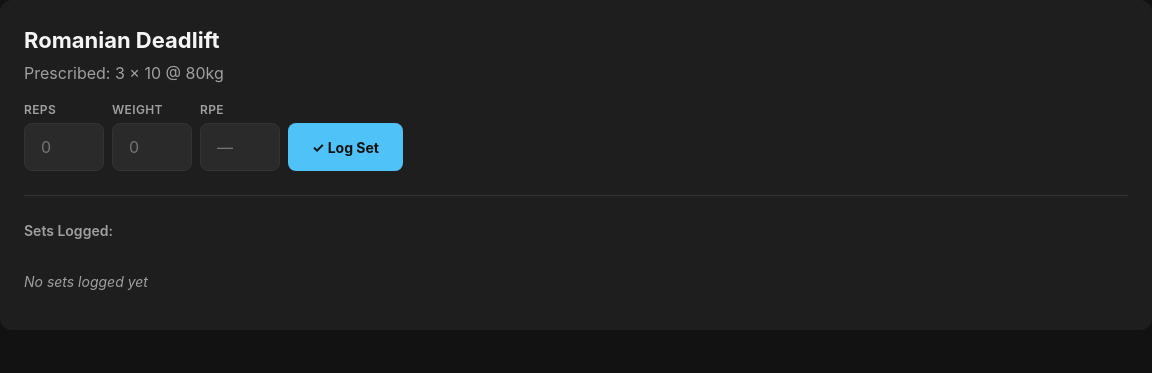
Test case: LoggingPanel › Strength variant › shows validation error when weight is missing
This screenshot has width=1152, height=373.
Step 1. Type "10" into the number field named "Reps completed" → (64, 147), box [24,123,104,171]
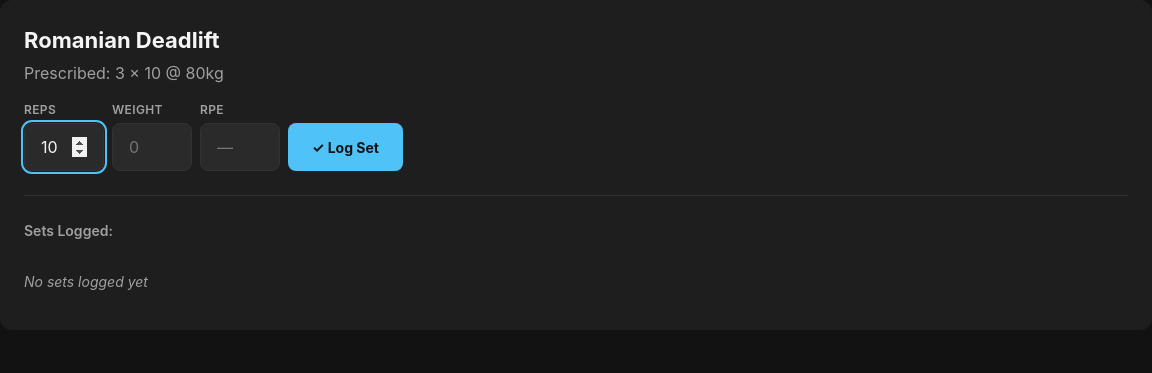
Step 2. Submit the form with test id "set-log-form", box [24,102,403,171]
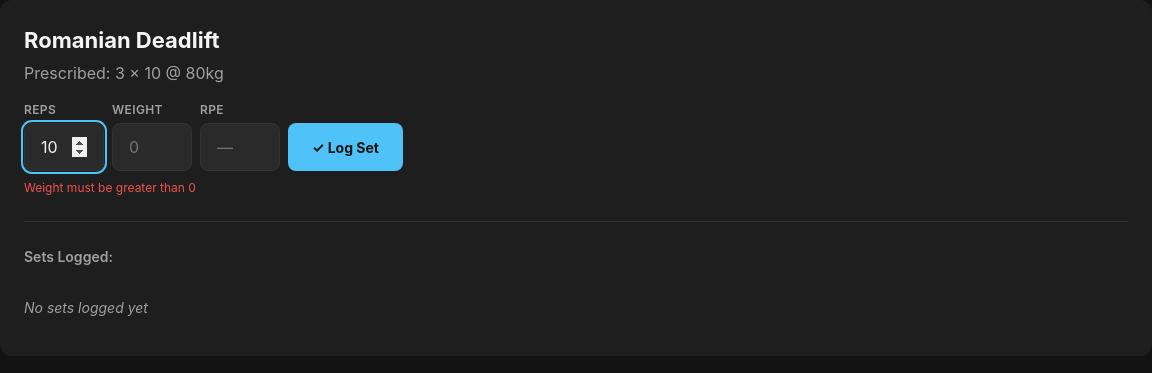
Result: the message reads "Weight must be greater than 0" at [24,180,196,195]
